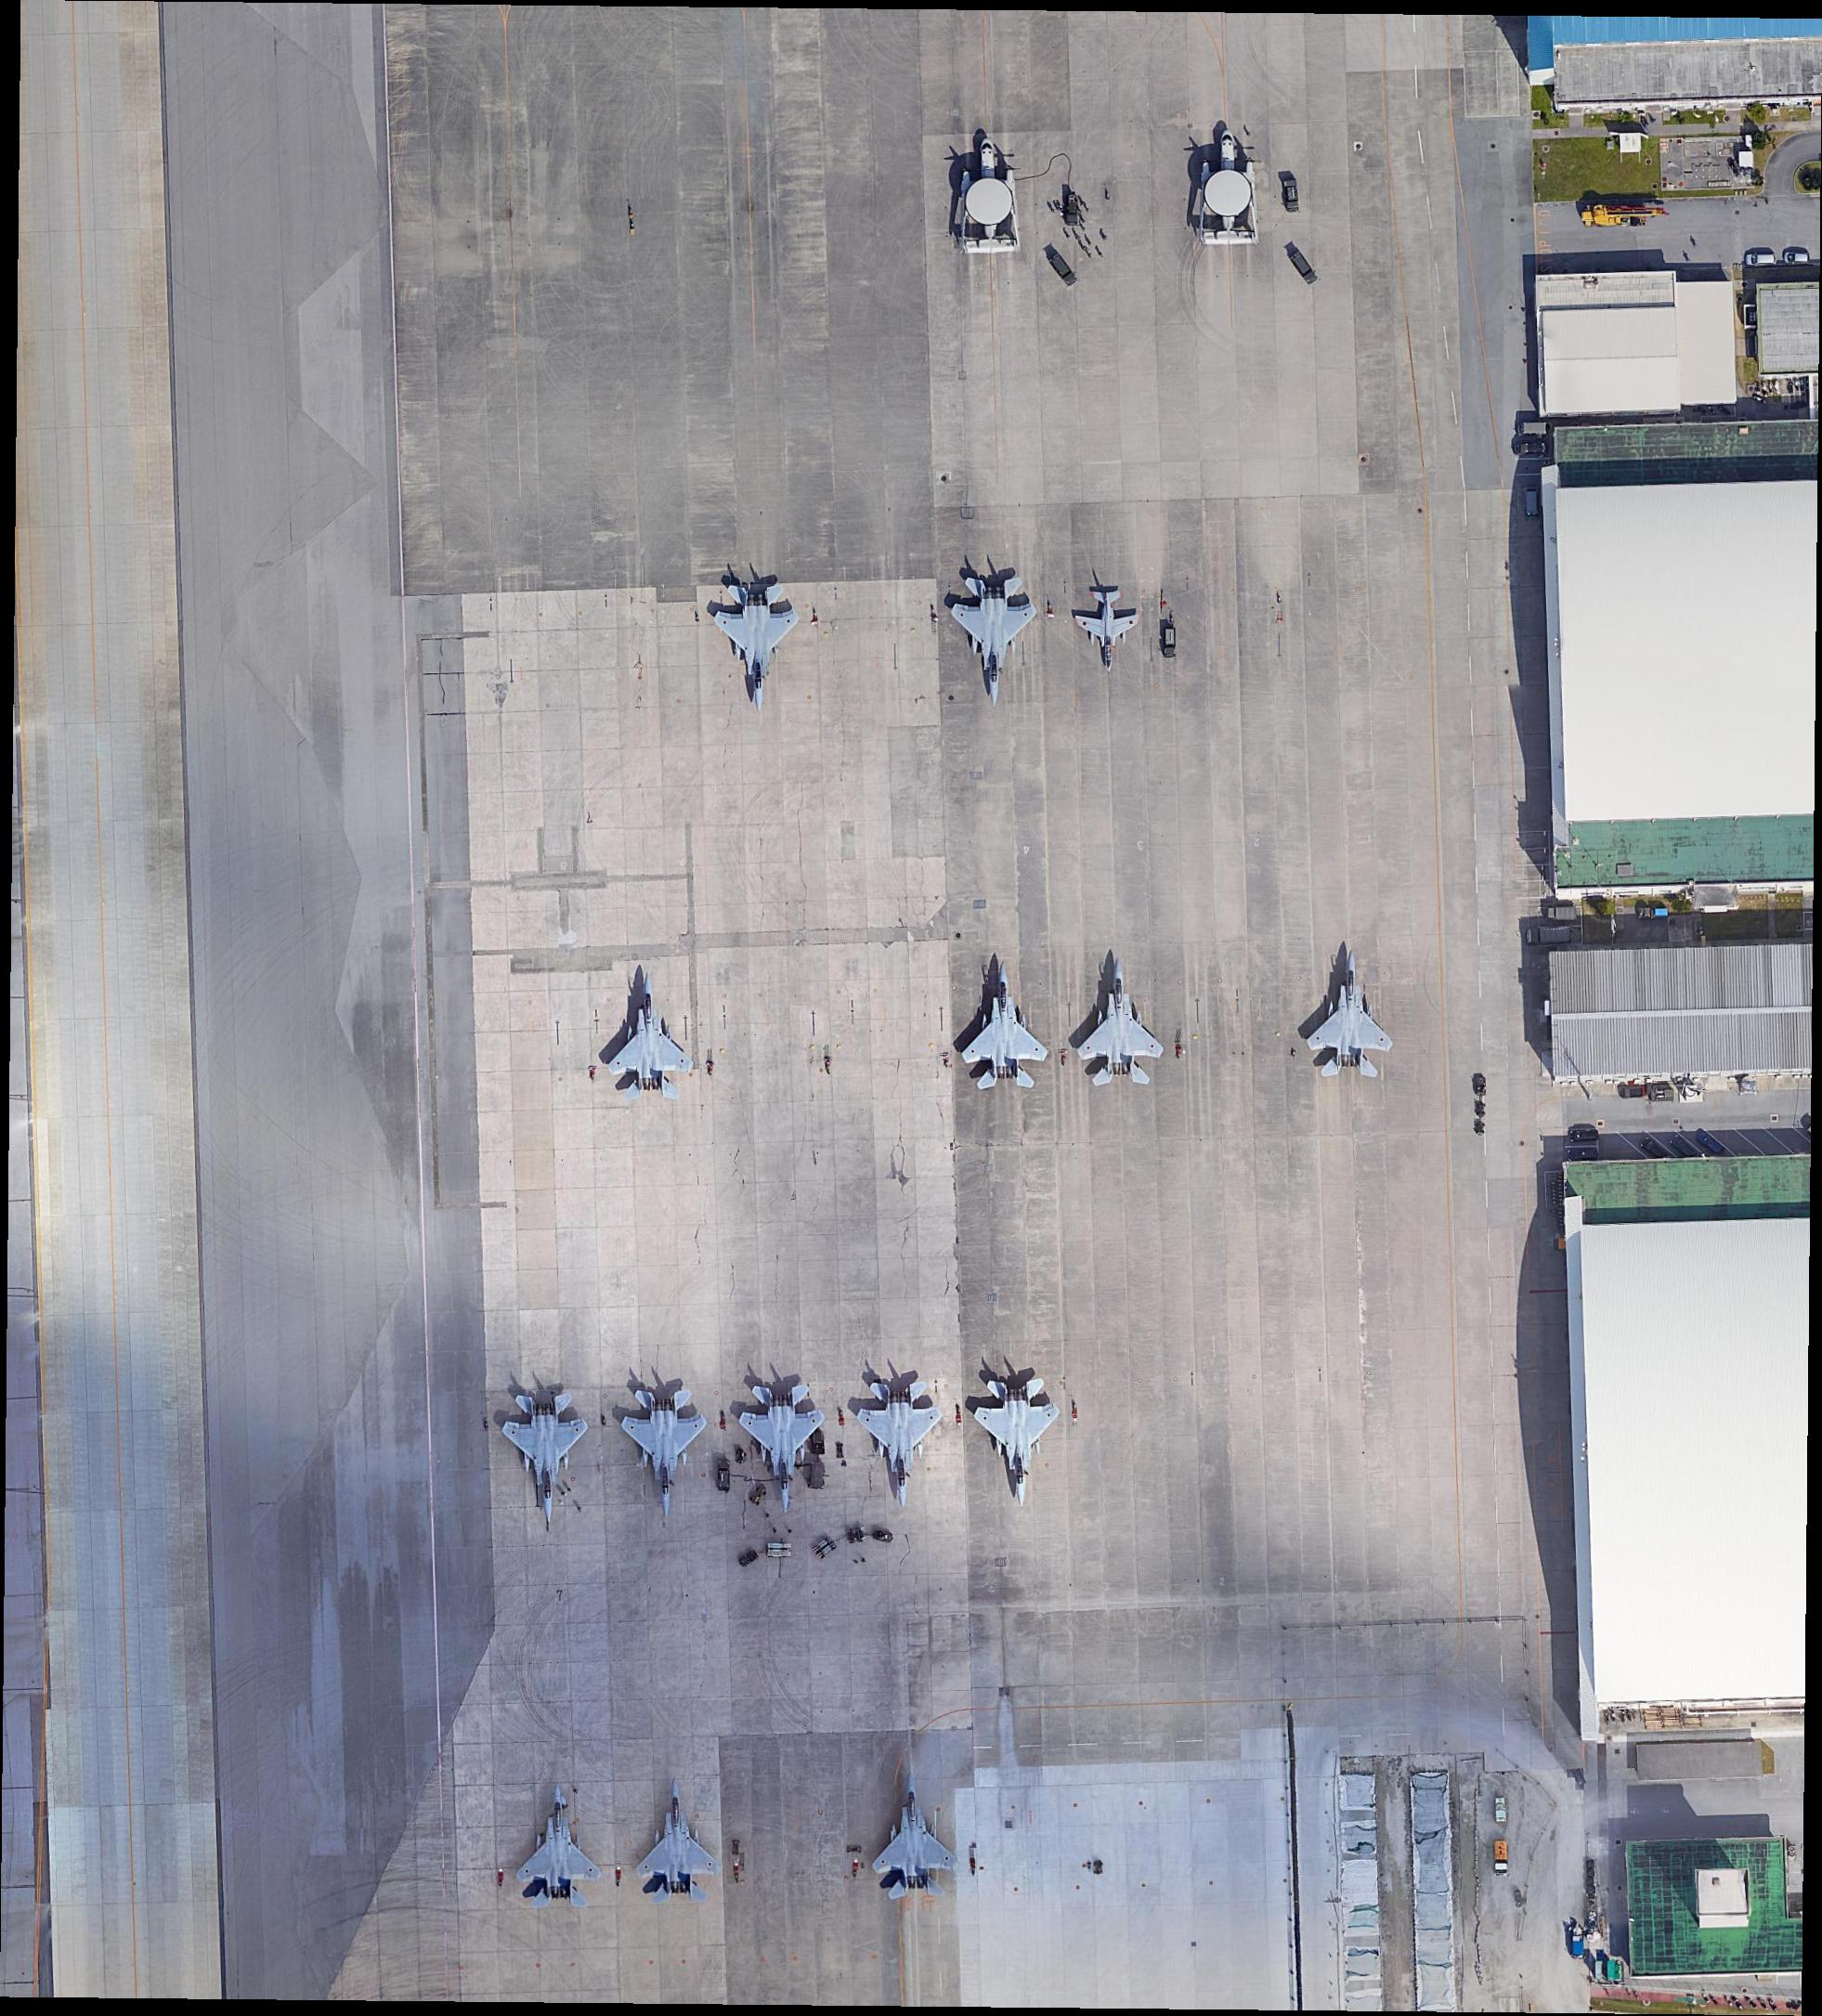plane: (933, 564, 1047, 708), (492, 1391, 599, 1531), (1293, 950, 1402, 1084), (706, 580, 805, 715), (952, 959, 1049, 1096), (617, 1391, 717, 1523), (597, 973, 694, 1103), (731, 1384, 828, 1512), (849, 1382, 947, 1507), (968, 1379, 1065, 1503), (1070, 964, 1165, 1091), (508, 1788, 604, 1909), (631, 1784, 727, 1904), (868, 1782, 963, 1902), (938, 137, 1030, 256), (1182, 130, 1265, 248), (1072, 587, 1142, 673)
